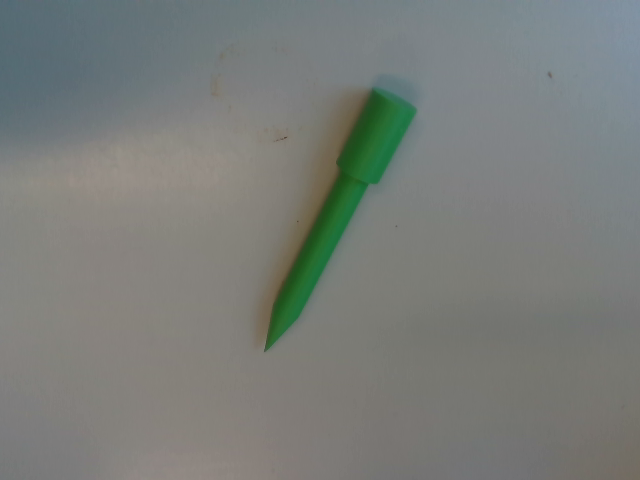Probe: (257, 77, 422, 358)
